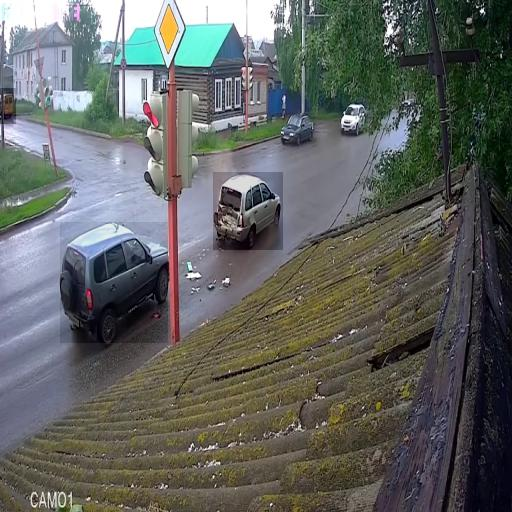小汽车: (60, 222, 168, 343), (213, 172, 283, 250), (282, 113, 316, 144), (340, 104, 367, 136), (0, 88, 16, 124)
